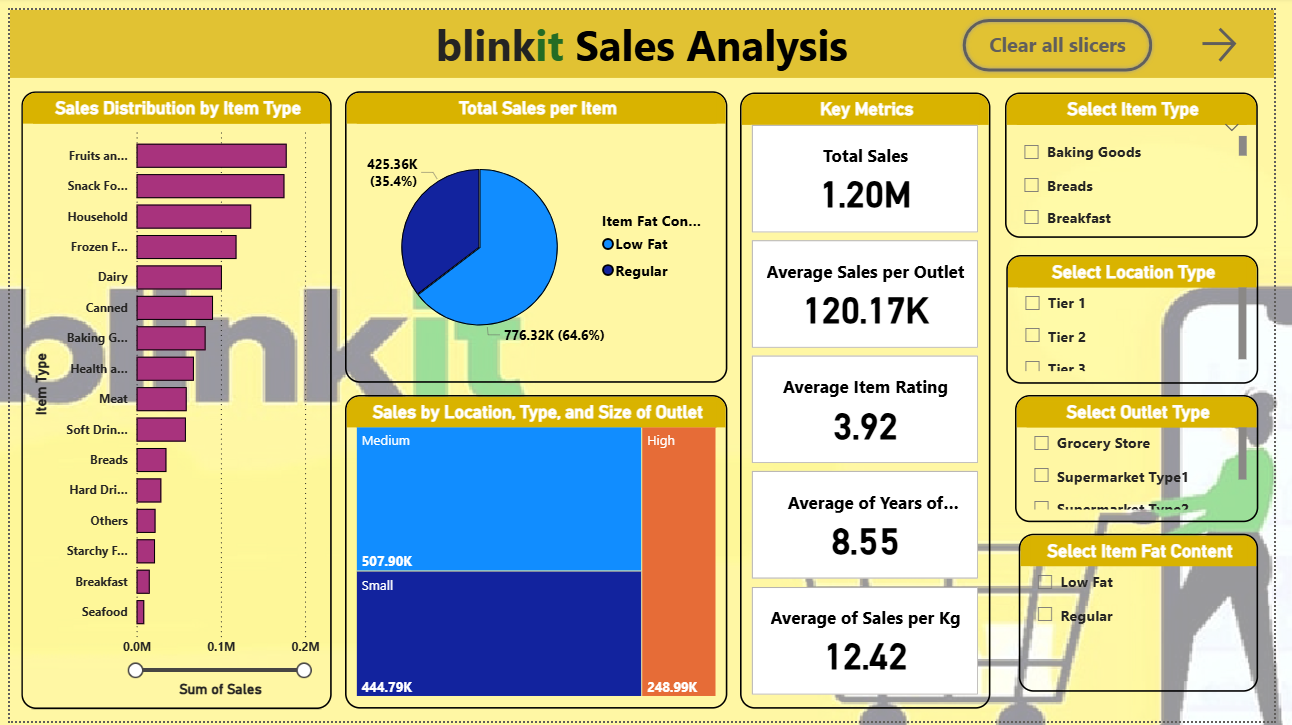

The dashboard page shown, as its layout file describes it:
{"tool":"powerbi","page":{"name":"Page 1","canvas":[1280,720],"ordinal":0},"visuals":[{"type":"cardVisual","title":"Key Metrics","fields":{"Data":["BlinkIT Grocery Data.Total Sales","BlinkIT Grocery Data.Average Sales per Outlet","BlinkIT Grocery Data.Average Item Rating","Avg(BlinkIT Grocery Data.Years of Operation)","Avg(BlinkIT Grocery Data.Sales per Kg)"]},"box":[738.8,83.8,253.8,623.8],"z":0},{"type":"barChart","title":"Sales Distribution by Item Type","fields":{"Category":["Items.Item Type"],"Y":["Sum(BlinkIT Grocery Data.Sales)"]},"box":[10.8,81.9,314.5,625.3],"z":1000},{"type":"pieChart","title":"Total Sales per Item","fields":{"Category":["BlinkIT Grocery Data.Item Fat Content"],"Y":["Sum(BlinkIT Grocery Data.Sales)"]},"box":[338.8,82.5,387.5,295],"z":2000},{"type":"treemap","title":"Sales by Location, Type, and Size of Outlet","fields":{"Group":["BlinkIT Grocery Data.Outlet Location Type","BlinkIT Grocery Data.Outlet Type","BlinkIT Grocery Data.Outlet Size"],"Values":["BlinkIT Grocery Data.Total Sales"]},"box":[338.8,390,387.5,317.5],"z":3000},{"type":"slicer","title":"Select Item Type","fields":{"Values":["BlinkIT Grocery Data.Item Type"]},"box":[1007.5,83.8,256.2,147.5],"z":4000},{"type":"slicer","title":"Select Location Type","fields":{"Values":["BlinkIT Grocery Data.Outlet Location Type"]},"box":[1008.8,247.5,255,130],"z":5000},{"type":"slicer","title":"Select Outlet Type","fields":{"Values":["BlinkIT Grocery Data.Outlet Type"]},"box":[1017.5,390,246.2,128.8],"z":6000},{"type":"slicer","title":"Select Item Fat Content","fields":{"Values":["BlinkIT Grocery Data.Item Fat Content"]},"box":[1021.2,530,242.5,160],"z":7000},{"type":"textbox","box":[0,0,1280,68.8],"z":8000},{"type":"actionButton","box":[1201.2,12.5,51.2,45],"z":9000},{"type":"actionButton","box":[961.2,5,200,61.2],"z":10000}]}

Visuals, with their boxes in screenshot pixels (x1, y1, x2, y2), scaled from the page's 1280x720 canvas onto the 1292x725 screenshot:
"Key Metrics" cardVisual: bbox=[746, 84, 1002, 713]
"Sales Distribution by Item Type" barChart: bbox=[11, 82, 328, 712]
"Total Sales per Item" pieChart: bbox=[342, 83, 733, 380]
"Sales by Location, Type, and Size of Outlet" treemap: bbox=[342, 393, 733, 712]
"Select Item Type" slicer: bbox=[1017, 84, 1276, 233]
"Select Location Type" slicer: bbox=[1018, 249, 1276, 380]
"Select Outlet Type" slicer: bbox=[1027, 393, 1276, 522]
"Select Item Fat Content" slicer: bbox=[1031, 534, 1276, 695]
textbox: bbox=[0, 0, 1291, 69]
actionButton: bbox=[1212, 13, 1264, 58]
actionButton: bbox=[970, 5, 1172, 67]
